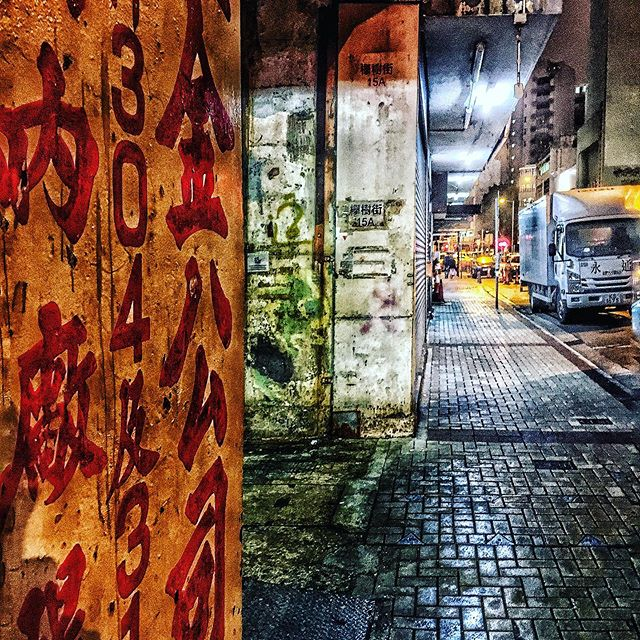building: (246, 1, 425, 453), (505, 1, 640, 259)
sidewalk: (400, 286, 627, 638)
truck: (502, 191, 640, 324)
